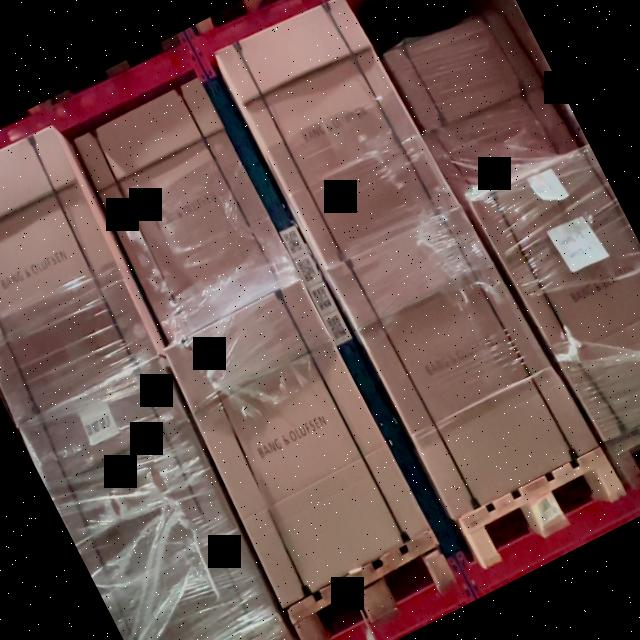box: (165, 282, 433, 609), (329, 207, 598, 519), (216, 0, 460, 269), (74, 77, 302, 343), (0, 127, 158, 426), (385, 11, 542, 132), (425, 89, 579, 206)
